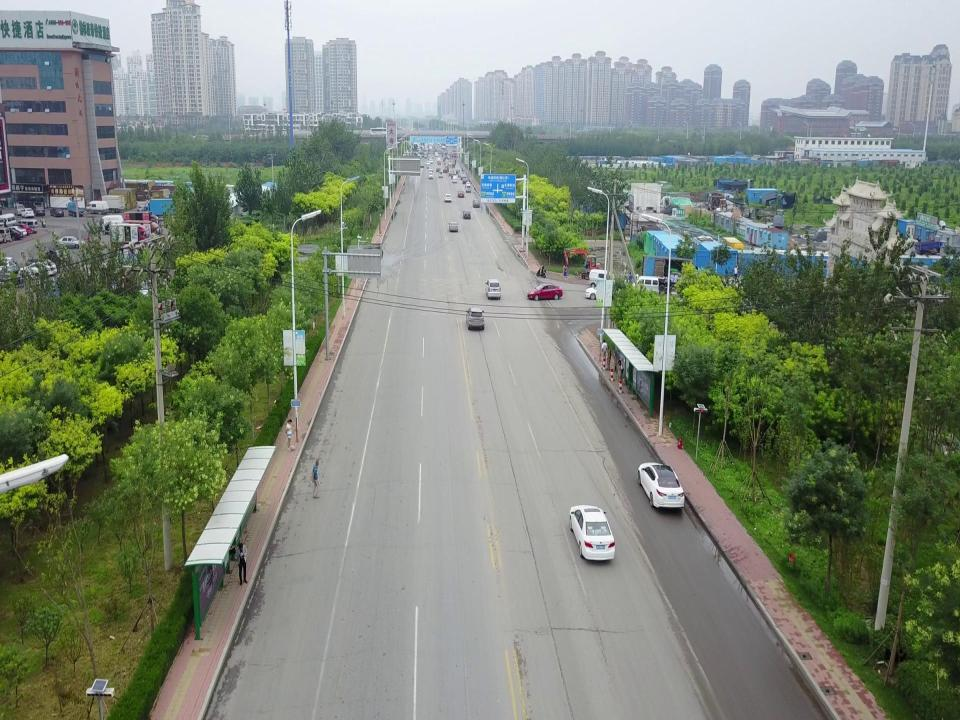car: (570, 504, 614, 562), (637, 462, 685, 510), (527, 282, 563, 300), (18, 260, 56, 277), (584, 282, 619, 300), (56, 235, 84, 248), (38, 249, 65, 262), (2, 226, 20, 241), (6, 226, 26, 238), (11, 223, 30, 235), (20, 208, 34, 218), (32, 206, 45, 216), (50, 208, 64, 217), (450, 222, 459, 233), (463, 210, 471, 221), (444, 194, 452, 203), (472, 199, 480, 208), (457, 190, 464, 198), (452, 178, 457, 184), (466, 181, 470, 188), (420, 162, 424, 168), (462, 178, 466, 184), (458, 172, 462, 178), (452, 173, 456, 179), (429, 167, 433, 172), (426, 161, 430, 166), (444, 168, 448, 173), (456, 169, 460, 174), (436, 168, 440, 172), (437, 160, 441, 164), (427, 165, 430, 168)
truck: (109, 224, 152, 245), (96, 195, 127, 214), (66, 200, 83, 217), (460, 170, 466, 179), (449, 168, 453, 176)
van: (588, 269, 618, 288), (98, 214, 122, 234), (466, 308, 485, 332), (631, 276, 658, 292), (85, 200, 109, 214), (486, 279, 501, 301), (16, 219, 37, 233), (0, 213, 15, 229), (14, 204, 24, 214), (466, 185, 472, 192), (428, 172, 433, 180), (438, 171, 442, 178)
